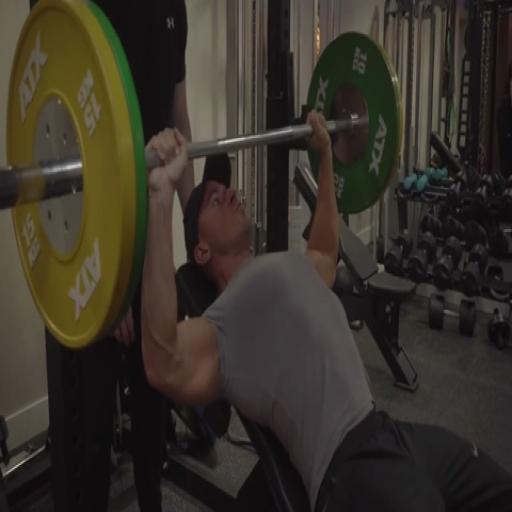exercise: (136, 110, 511, 510)
